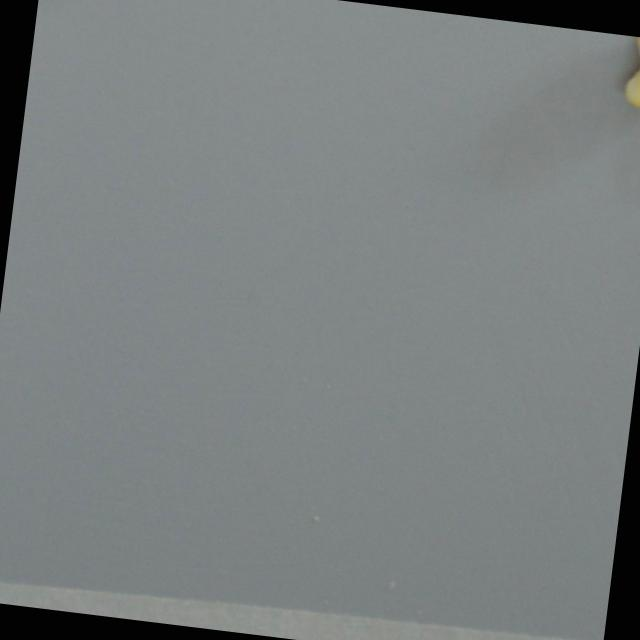no_desgerminado: (616, 35, 640, 110)
